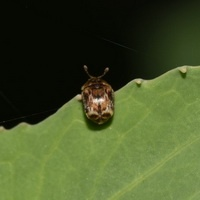insect: (81, 65, 113, 124)
